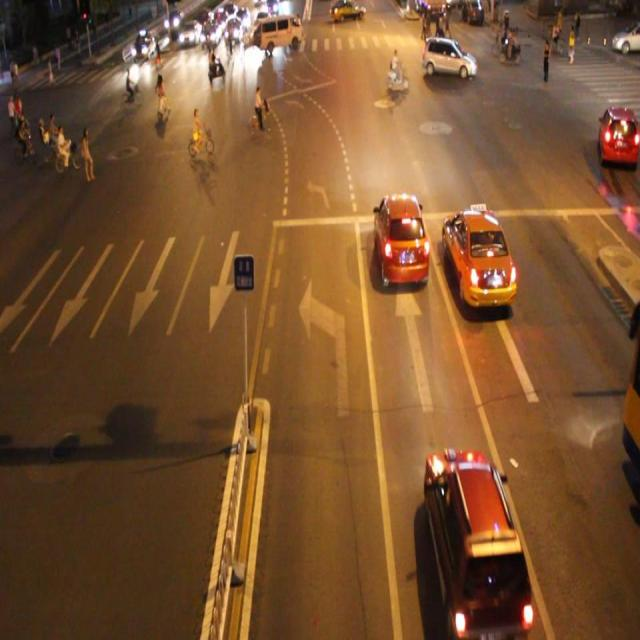car: (423, 449, 531, 631), (440, 204, 518, 308), (373, 192, 429, 288)
truck: (421, 37, 474, 78), (259, 15, 302, 51)
